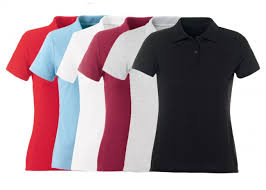S_polo shirt: (139, 18, 260, 178)
